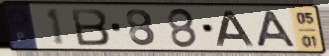1: (44, 7, 66, 48)
8: (165, 6, 199, 50), (125, 8, 157, 47)
A: (214, 9, 257, 48), (255, 10, 298, 48)
B: (68, 7, 113, 47)
